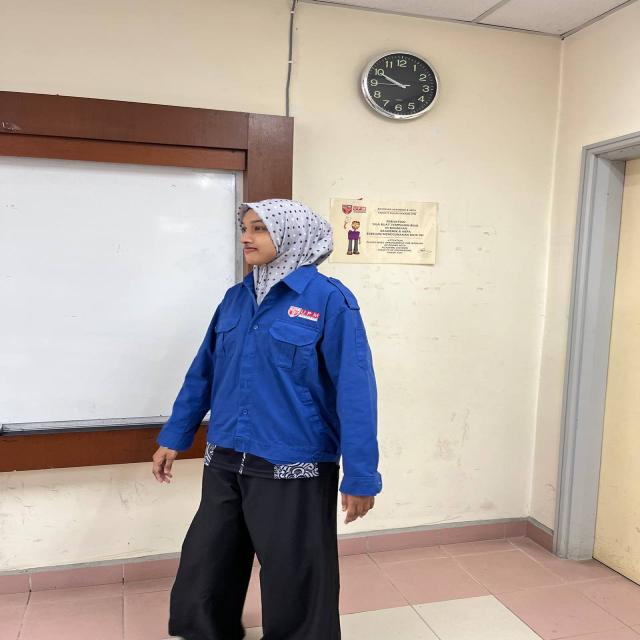person_with_labcoat: (153, 199, 381, 640)
